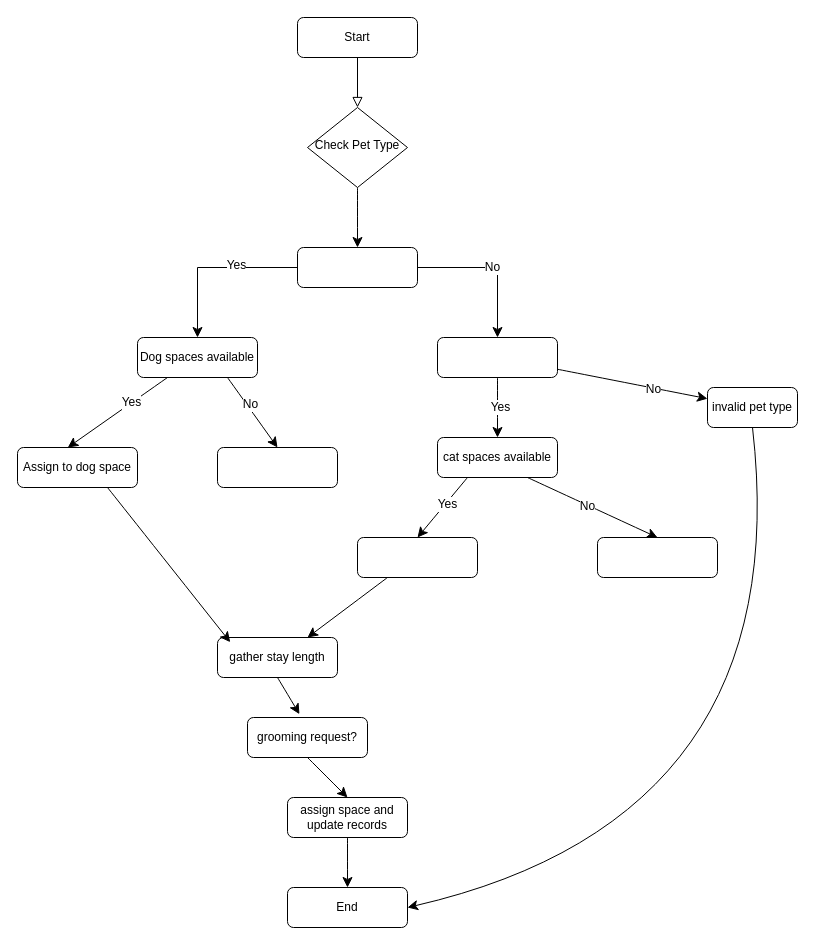
Some shapes in this 815 by 945 pixel diagram are drawn without their labels. The centre of each missing label's shape, as x and y in pixels:
"assign to cat space" belongs at (417,557).
"Is pet a cat" belongs at (497,357).
"Is pet a dog?" belongs at (357,267).
"no space available for cats" belongs at (657,557).
"no space available for dogs" belongs at (277,467).
